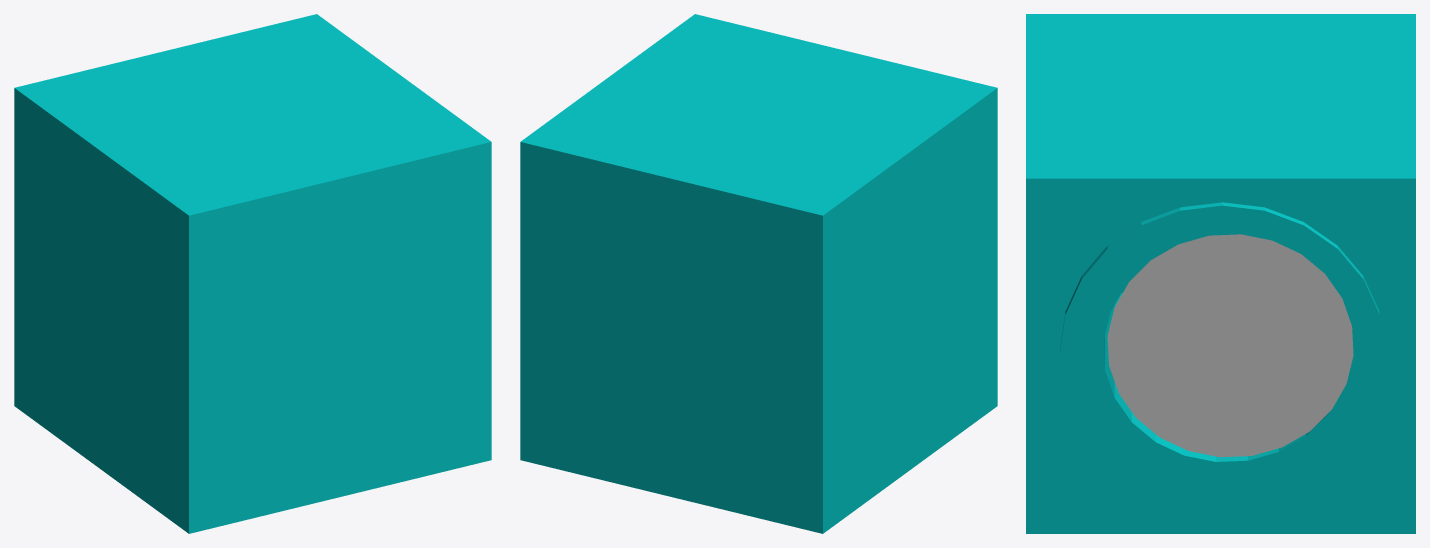
3 views of the same model, side by side, from view 1: azimuth 30°, elevation 25°; view 2: azimuth 150°, elevation 25°; view 3: azimuth 270°, elevation 25° (orthographic). The views are drawn at different scales.
Visible parts, largest first — view 1: mesh1_mesh1-geometry; view 2: mesh1_mesh1-geometry; view 3: mesh1_mesh1-geometry.
Part boxes in pixels (x1=…): mesh1_mesh1-geometry: x1=14, y1=14, x2=491, y2=533; mesh1_mesh1-geometry: x1=520, y1=14, x2=997, y2=533; mesh1_mesh1-geometry: x1=1026, y1=14, x2=1415, y2=533.
Size of the model in its own units: 0.584 by 0.5754 by 0.5725.
